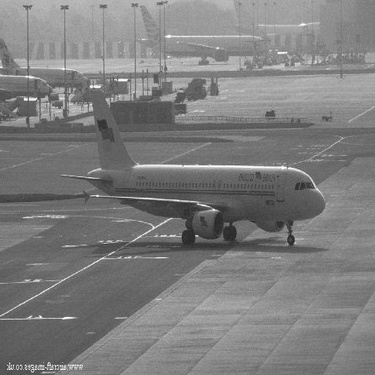airplane: (54, 82, 331, 251), (113, 1, 277, 63), (210, 4, 334, 54), (1, 34, 93, 90), (1, 71, 54, 100)
